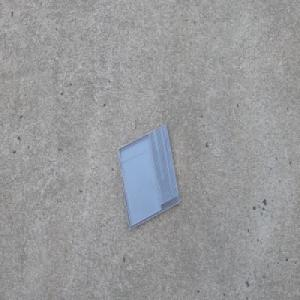PlasticPart: (116, 122, 180, 231)
